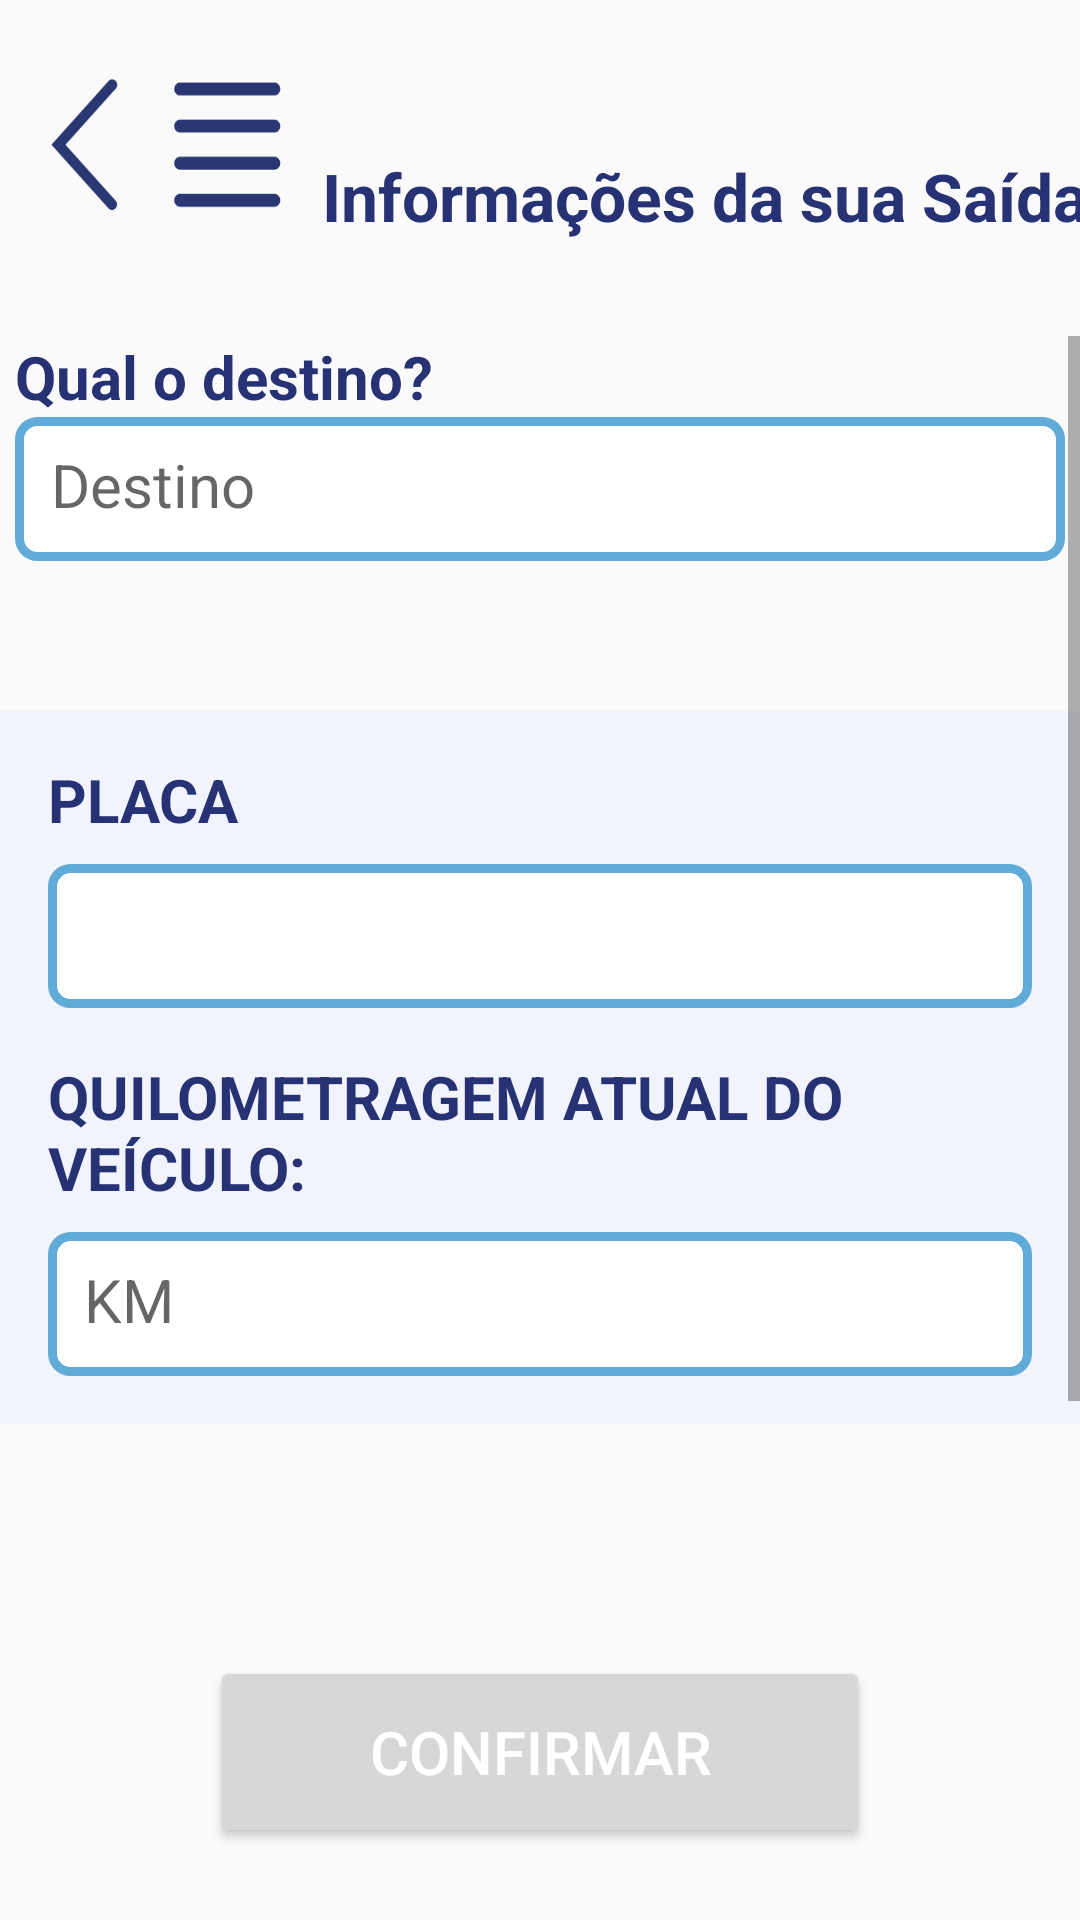

Where to tap for icons on this 1080×1920 app screen, as [x,y]:
voltar menu: [166,144]
